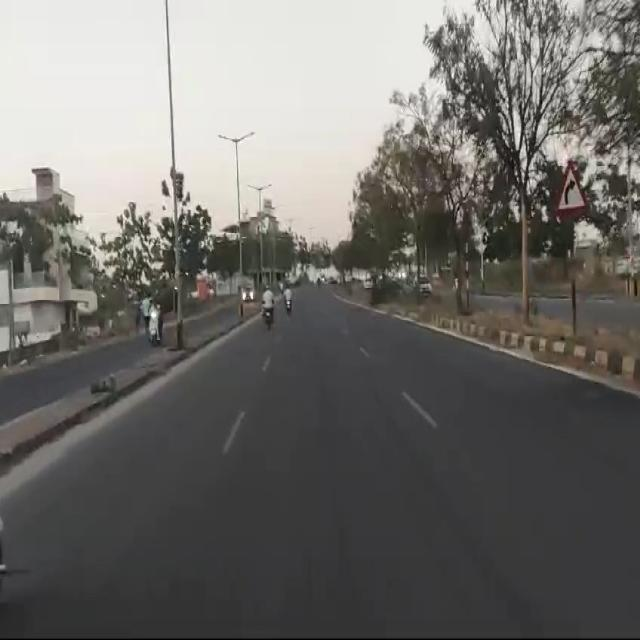bien_cam: (555, 159, 588, 216)
